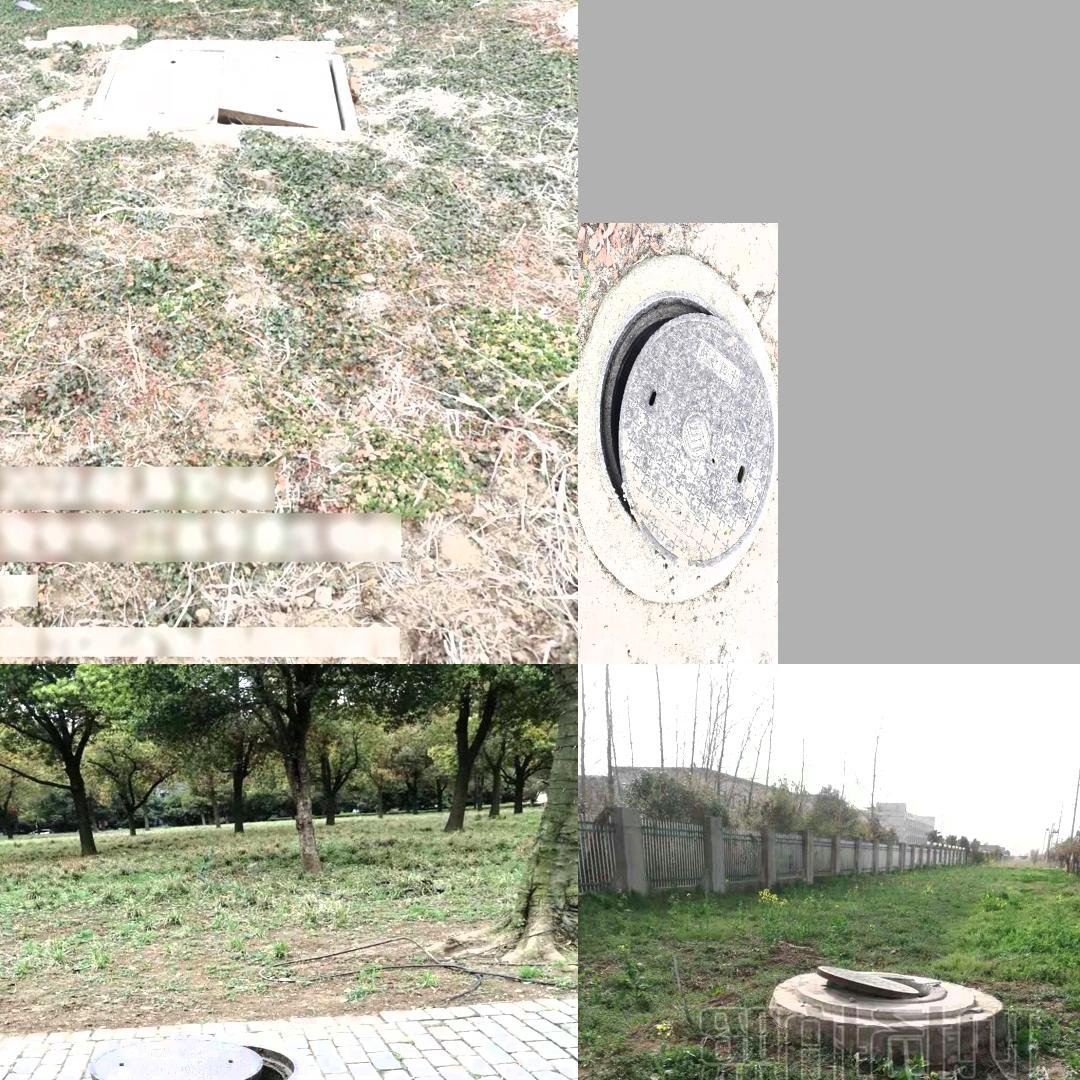uncovered: (595, 291, 775, 566), (77, 11, 359, 141), (69, 1024, 310, 1080), (792, 966, 973, 1013)
